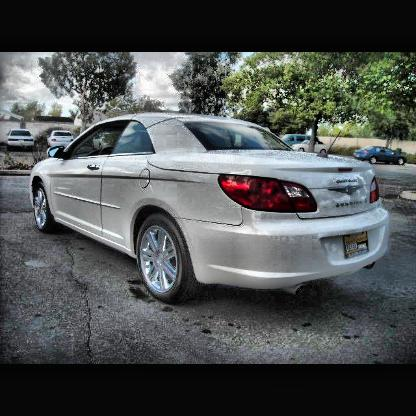Chrysler Sebring Convertible 2010: (30, 113, 393, 304)
